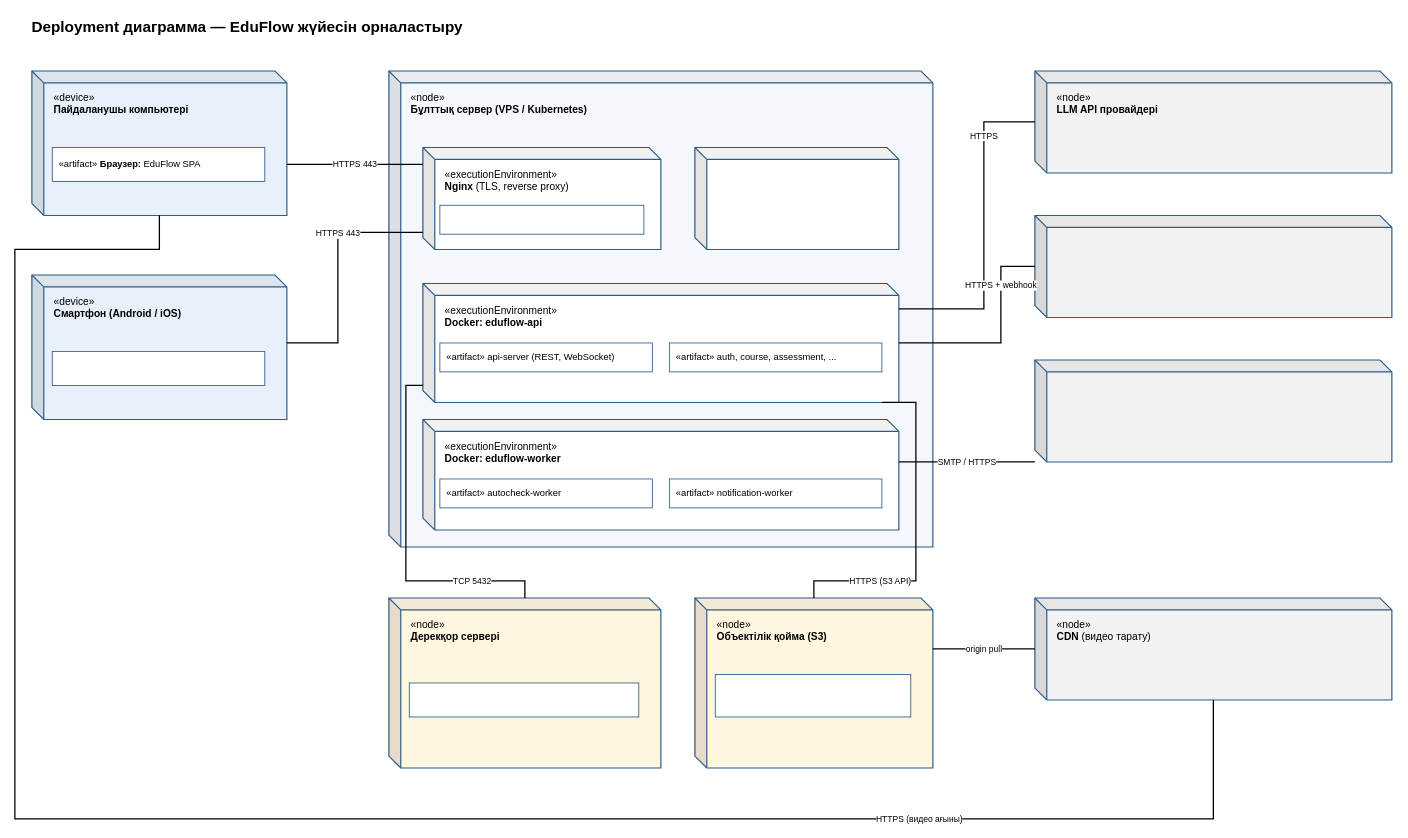
Some shapes in this 1408 by 838 pixel diagram are drawn without their labels. The shapes that lost their labels are listed below. From the top down, each one's centre as x and y in pixels, then its label:
At (x=796, y=198): "«executionEnvironment» Redis 7".
At (x=541, y=219): "«artifact» static/ (SPA файлдары)".
At (x=1213, y=266): "«node» Төлем провайдері (карта / QR)".
At (x=158, y=368): "«artifact» eduflow-mobile.apk / .ipa".
At (x=1213, y=410): "«node» SMS / Email шлюзі".
At (x=523, y=699): "«artifact» PostgreSQL 16 : eduflow_db".
At (x=812, y=695): "«artifact» видеосабақтар, материалдар, оқушы файлдары".
